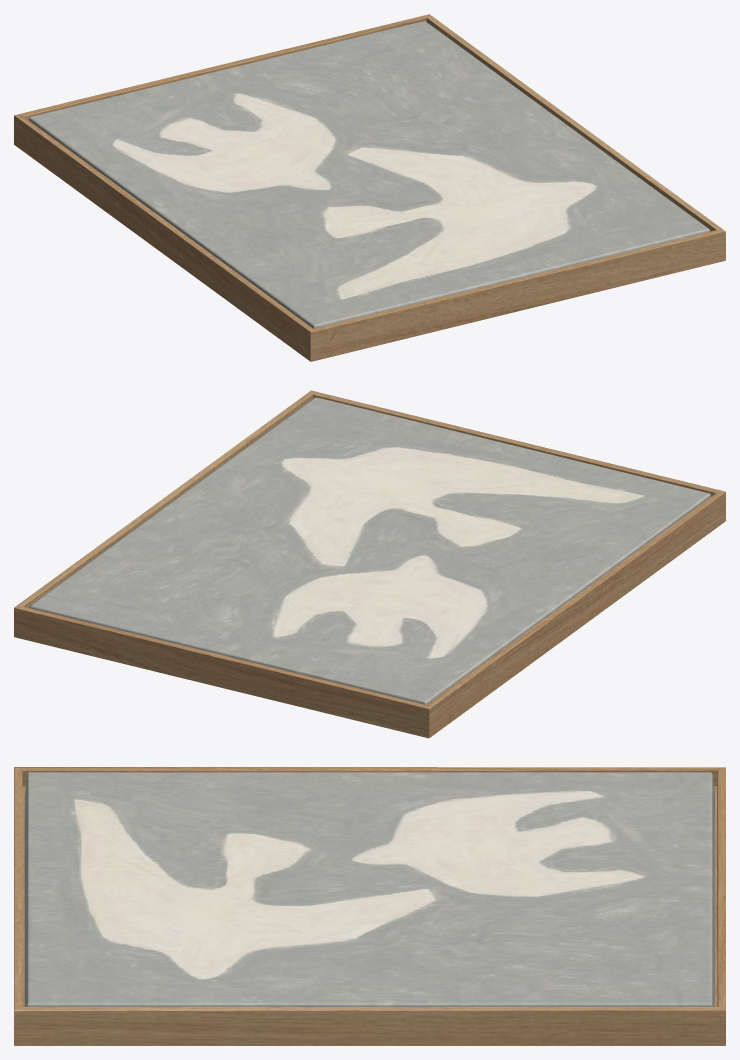
Rendered from BR-ART-A.glb.
3 views of the same model, one above another, from view 1: azimuth 30°, elevation 25°; view 2: azimuth 150°, elevation 25°; view 3: azimuth 270°, elevation 25° (orthographic). The views are drawn at different scales.
Parts seen in each view (by area): view 1: ASY_ART_00601921_S01_NV01; view 2: ASY_ART_00601921_S01_NV01; view 3: ASY_ART_00601921_S01_NV01.
Boxes of the visible parts, <box> form: ASY_ART_00601921_S01_NV01: <box>14,14,725,361</box>; ASY_ART_00601921_S01_NV01: <box>14,390,725,738</box>; ASY_ART_00601921_S01_NV01: <box>14,767,725,1045</box>.
Size of the model in its own units: 0.4204 by 0.0297 by 0.52.
1 material, 1 textured.
